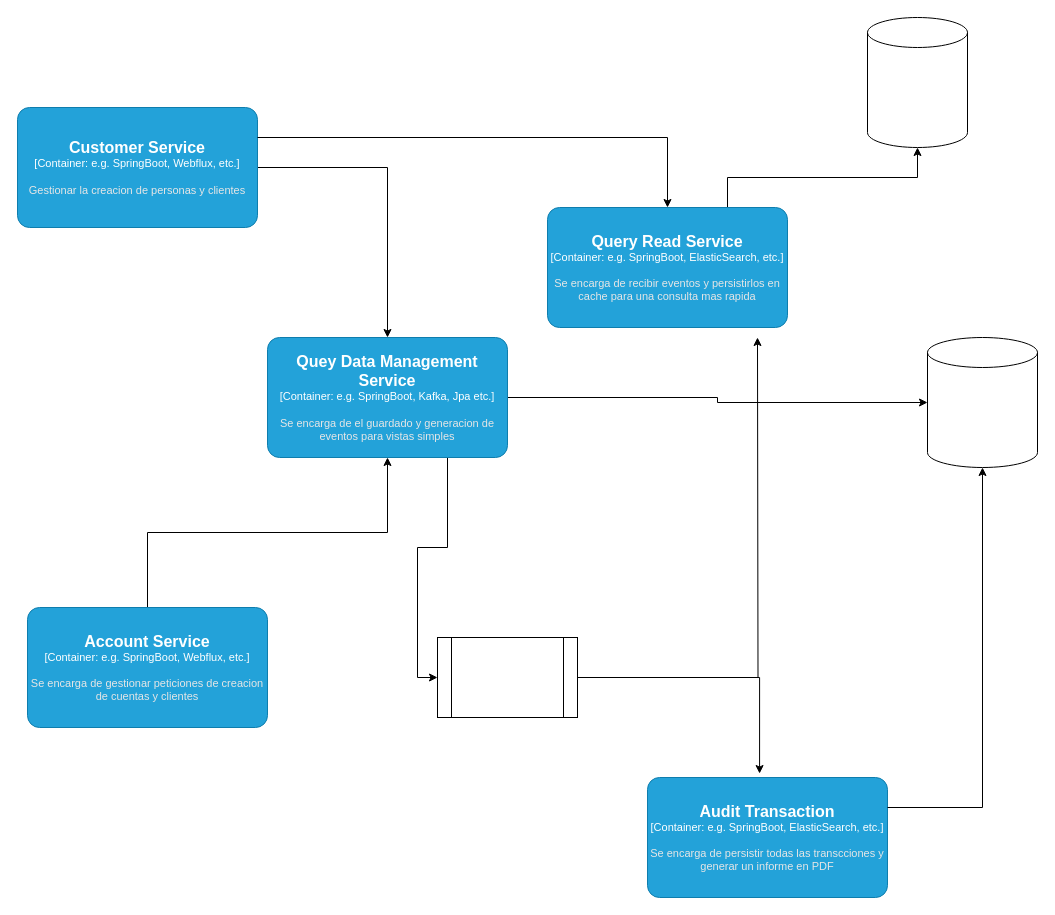
Image size: 1055x915. Some labels were removed from this diagram. The shapes that lost their labels are listed below. From the top down, each one's centre as x and y in pixels, then its label:
At (x=917, y=82): "Redis".
At (x=982, y=402): "Base de datos".
At (x=507, y=677): "Broker de Kafka".
